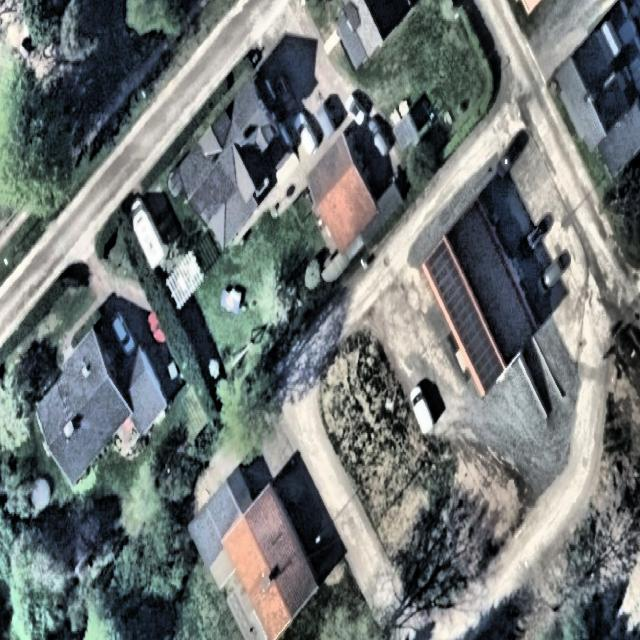roof_pv: (419, 239, 477, 323), (450, 311, 506, 394)
